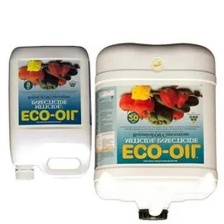insecticide: (91, 39, 220, 222), (5, 41, 94, 183)
